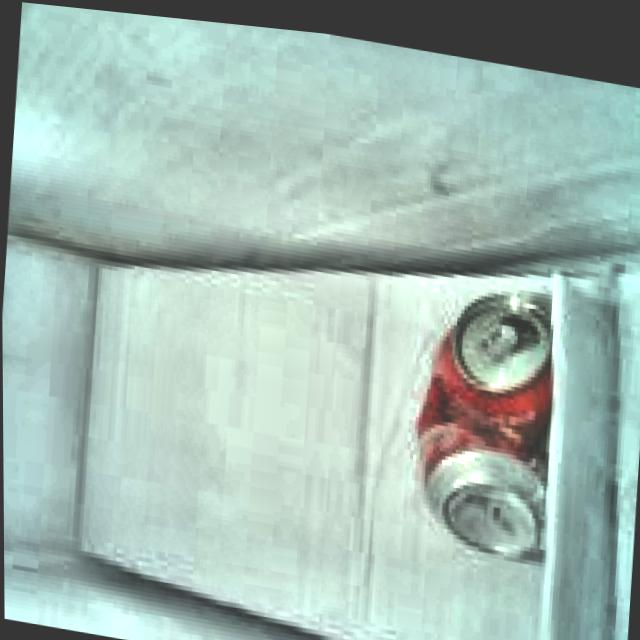Cans: (395, 250, 562, 566)
